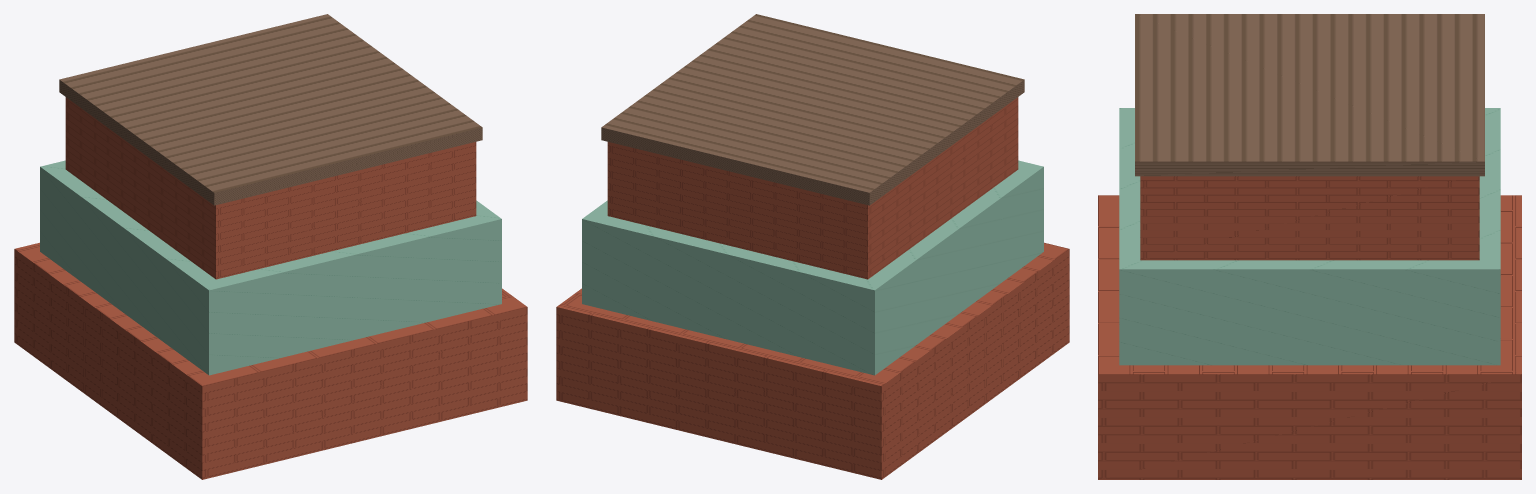
Rendered from casa_lima_4x4_flat.glb.
3 views of the same model, side by side, from view 1: azimuth 30°, elevation 25°; view 2: azimuth 150°, elevation 25°; view 3: azimuth 270°, elevation 25° (orthographic). The views are drawn at different scales.
Parts seen in each view (by area): view 1: lvl1, roof, lvl2, lvl3; view 2: lvl1, roof, lvl2, lvl3; view 3: roof, lvl1, lvl2, lvl3.
Part boxes in pixels (x1,y1,x2,y2): lvl1: (14,242,527,479); roof: (59,14,482,205); lvl2: (40,160,501,375); lvl3: (65,97,476,279); lvl1: (556,242,1069,479); roof: (601,14,1024,205); lvl2: (582,160,1043,375); lvl3: (607,97,1018,279); roof: (1135,14,1484,176); lvl1: (1098,195,1521,479); lvl2: (1119,108,1500,365); lvl3: (1140,176,1479,260).
Bounding box in the file's own units: 4 × 3.15 × 4.
3 materials, 3 textured.
